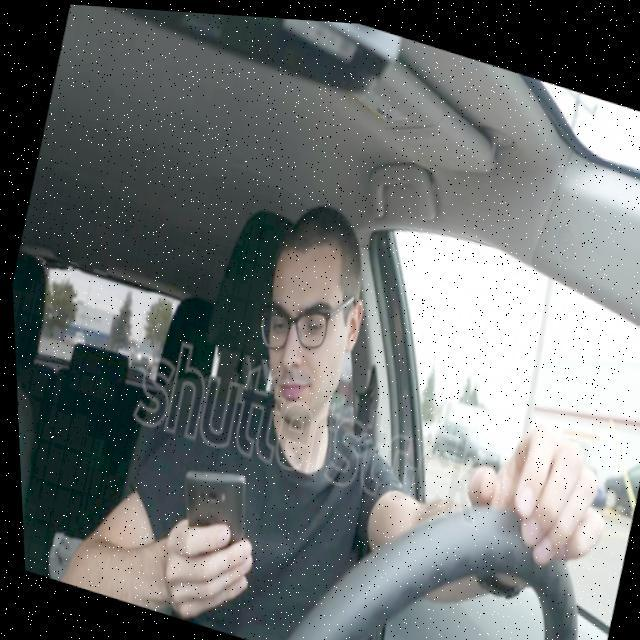PhoneCall: (152, 454, 256, 596)
